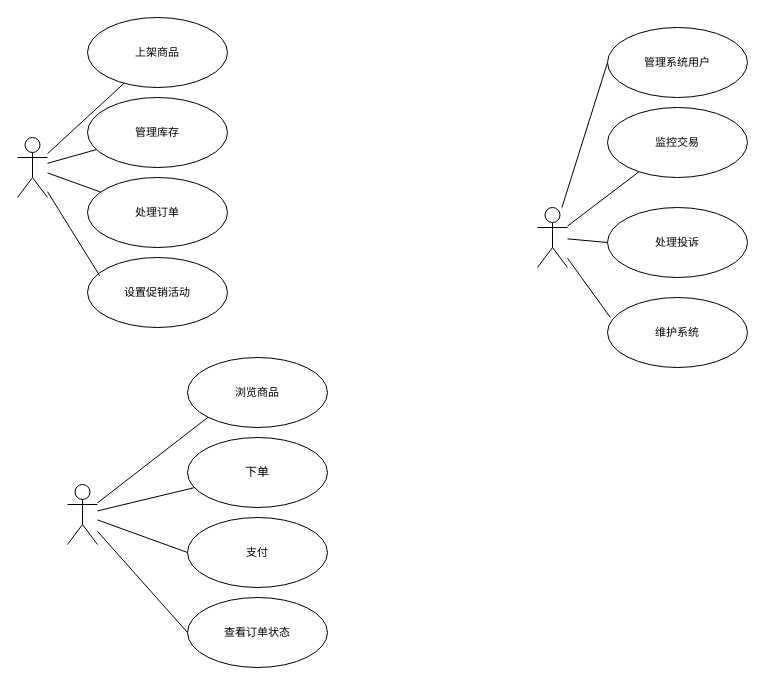
The diagram is 765 pixels wide and 685 high, and some of its shapes have lost their labels. The shapes that lost their labels are listed below. From the top down, each one's box as (x1, y1, x2, y2) in pixels, then its label:
(16, 136, 48, 198): 商家
(536, 206, 568, 268): 管理员
(66, 484, 98, 544): 顾客
